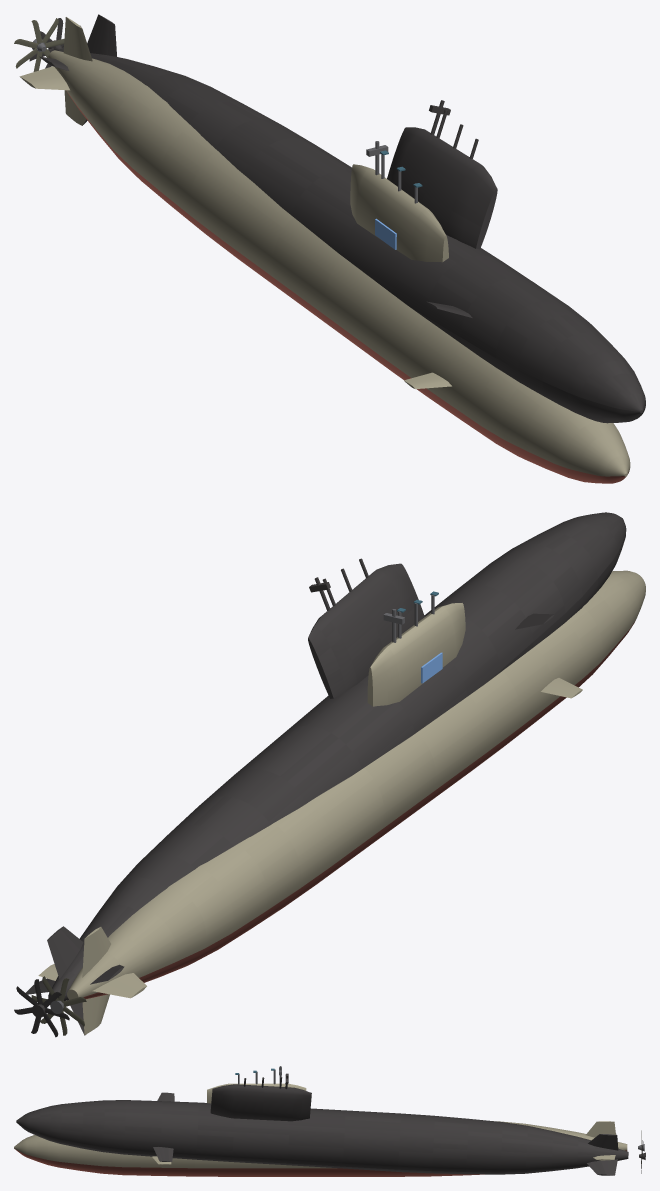
The model's file is submarine__kalvari_class.glb.
3 renders of one model, top to bottom at view 1: azimuth 30°, elevation 25°; view 2: azimuth 150°, elevation 25°; view 3: azimuth 270°, elevation 25°, orthographic. The views are drawn at different scales.
Parts seen in each view (by area): view 1: Hull_Mesh, Wreck; view 2: Hull_Mesh, Wreck; view 3: Wreck, Hull_Mesh.
Boxes of the visible parts, x1=… form: Hull_Mesh: x1=14, y1=17, x2=630, y2=483; Wreck: x1=29, y1=14, x2=645, y2=423; Hull_Mesh: x1=31, y1=570, x2=645, y2=1035; Wreck: x1=14, y1=512, x2=626, y2=1037; Wreck: x1=16, y1=1073, x2=645, y2=1175; Hull_Mesh: x1=14, y1=1068, x2=644, y2=1176.
Size of what is drawn, in the model's own units: 10.88 by 13.78 by 66.77.
